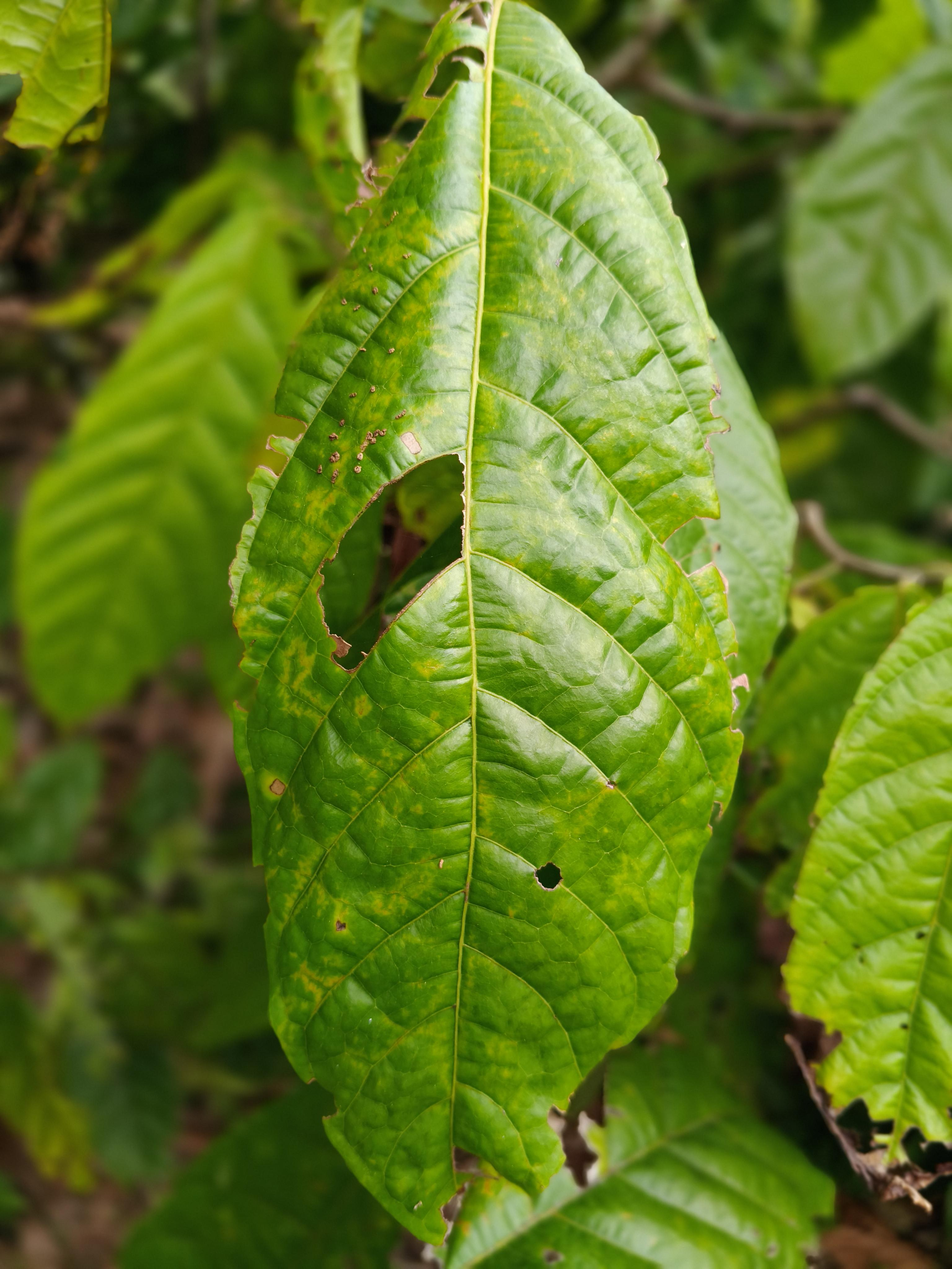deficiencia_potasio: (211, 0, 783, 1269)
